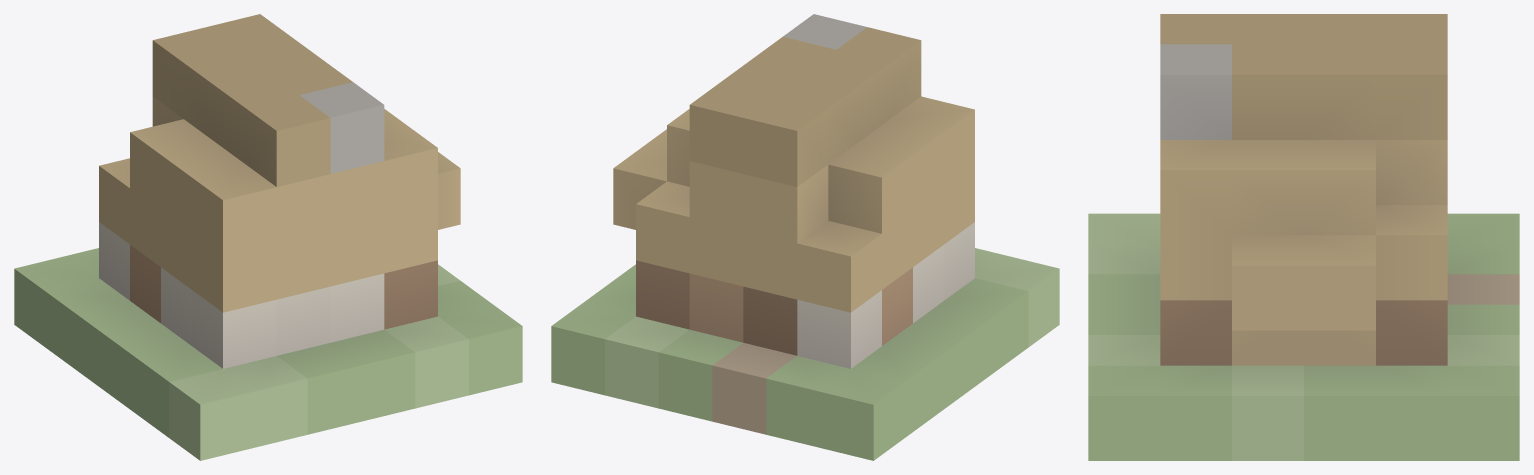
File: house_settlers.v1.lite.glb
3 renders of one model, left to right at view 1: azimuth 30°, elevation 25°; view 2: azimuth 150°, elevation 25°; view 3: azimuth 270°, elevation 25°, orthographic. The views are drawn at different scales.
Visible parts, largest first — view 1: house_settlers; view 2: house_settlers; view 3: house_settlers.
Boxes of the visible parts, x1,y1,x2,y2 form: house_settlers: (14,14,522,460); house_settlers: (551,14,1059,460); house_settlers: (1088,14,1519,460).
Size of the model in its own units: 3 by 2.5 by 3.
